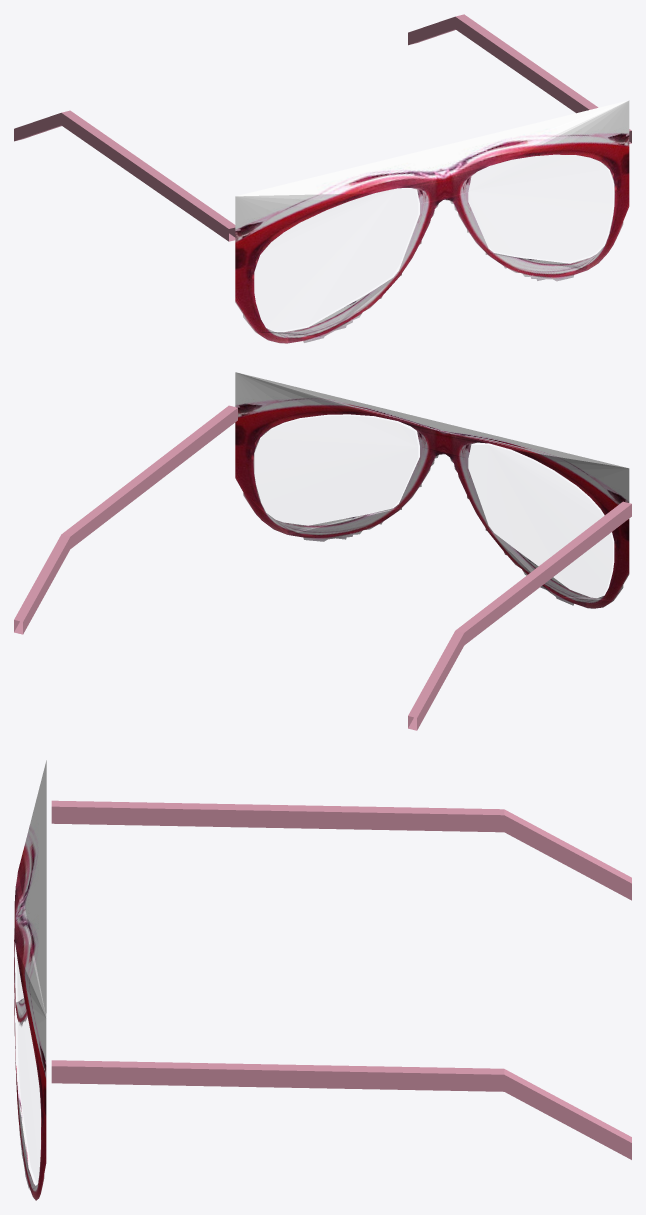
Rendered from gothamstyle-231_red.glb.
3 views of the same model, one above another, from view 1: azimuth 30°, elevation 25°; view 2: azimuth 150°, elevation 25°; view 3: azimuth 270°, elevation 25° (orthographic). The views are drawn at different scales.
Parts seen in each view (by area): view 1: frame_front, temple_viewer_left, temple_viewer_right; view 2: frame_front, temple_viewer_left, temple_viewer_right; view 3: temple_viewer_right, temple_viewer_left, frame_front.
Part boxes in pixels (left/top/right/bottom): frame_front: left=235, top=100, right=629, bottom=343; temple_viewer_left: left=14, top=110, right=235, bottom=241; temple_viewer_right: left=408, top=14, right=631, bottom=143; frame_front: left=235, top=372, right=629, bottom=608; temple_viewer_left: left=408, top=501, right=631, bottom=730; temple_viewer_right: left=14, top=405, right=237, bottom=634; temple_viewer_right: left=51, top=1060, right=631, bottom=1159; temple_viewer_left: left=51, top=800, right=631, bottom=900; frame_front: left=14, top=760, right=46, bottom=1200.
Bounding box in the file's own units: 0.1332 × 0.0497 × 0.131.
3 materials, 2 textured.
